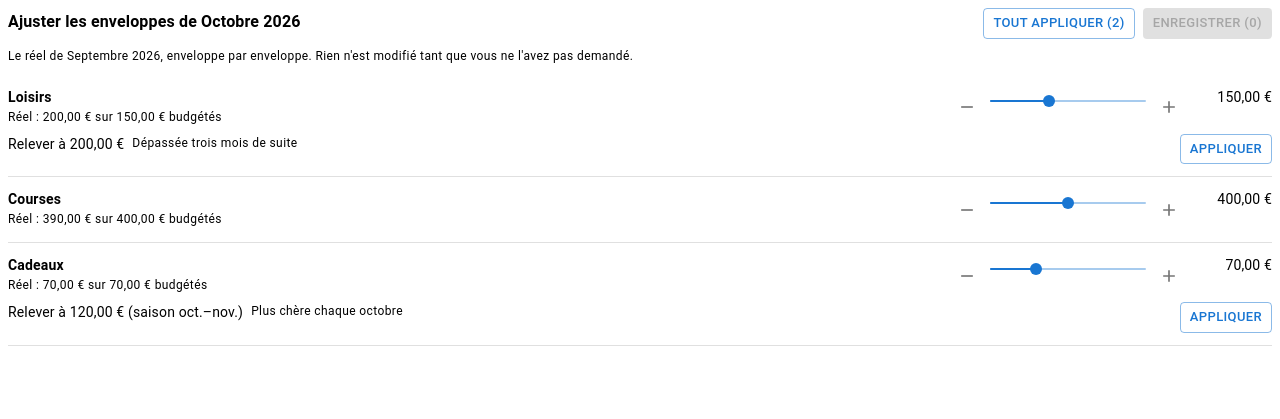
EnvelopeAdjustments › a network failure shows a message, keeps the manual changes and marks nothing applied
The width and height of the screenshot is (1280, 419).
Click the button named "Augmenter Courses". click: (1169, 210)
box: [1154,189,1184,230]
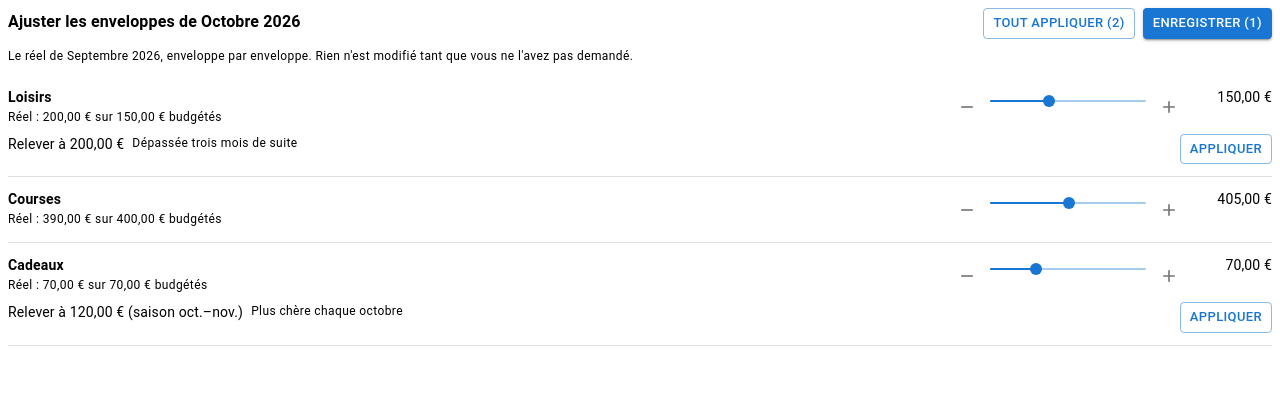
Click the button "Enregistrer (1)". click: (1207, 23)
box: [1143,8,1272,39]
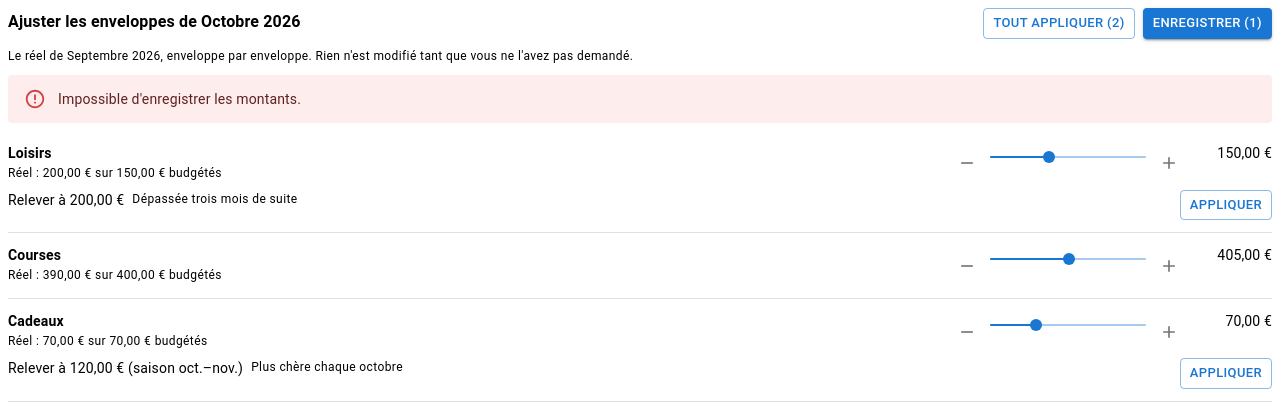
Result: the text with test id "adjustment-amount" shows "405,00" at [1217,247,1272,263]
Result: the button "Enregistrer (1)" is enabled at [1143,8,1272,39]
Result: the message reads "Impossible d'enregistrer les montants." at [58,91,301,107]
